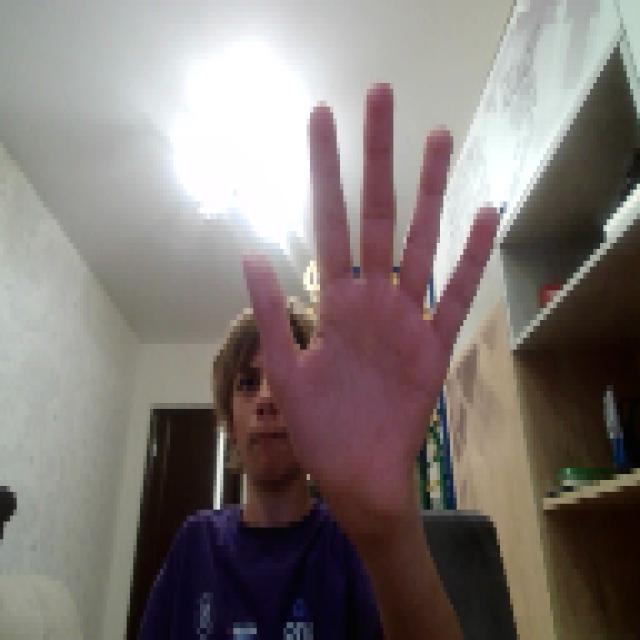hand: (240, 71, 497, 522)
